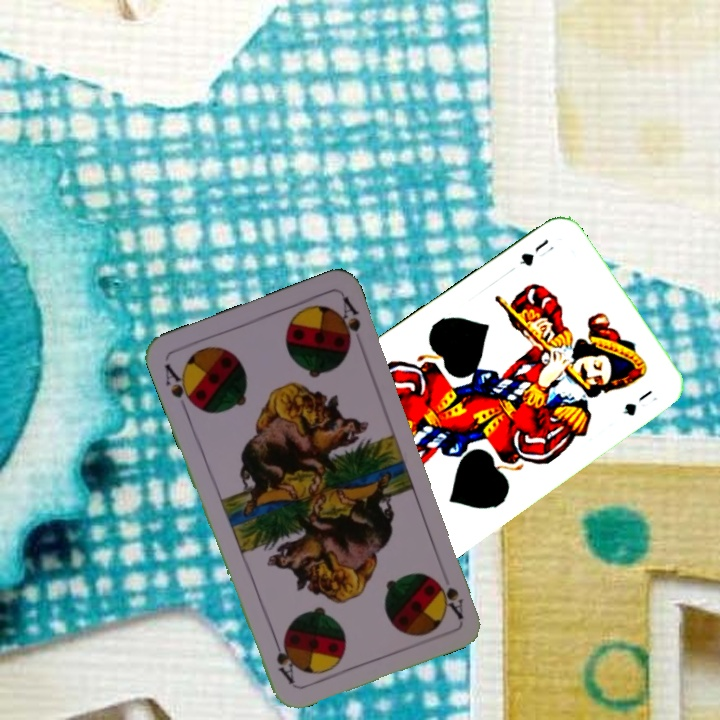GU: (516, 234, 552, 269)
SA: (160, 359, 199, 415), (435, 577, 466, 622)
